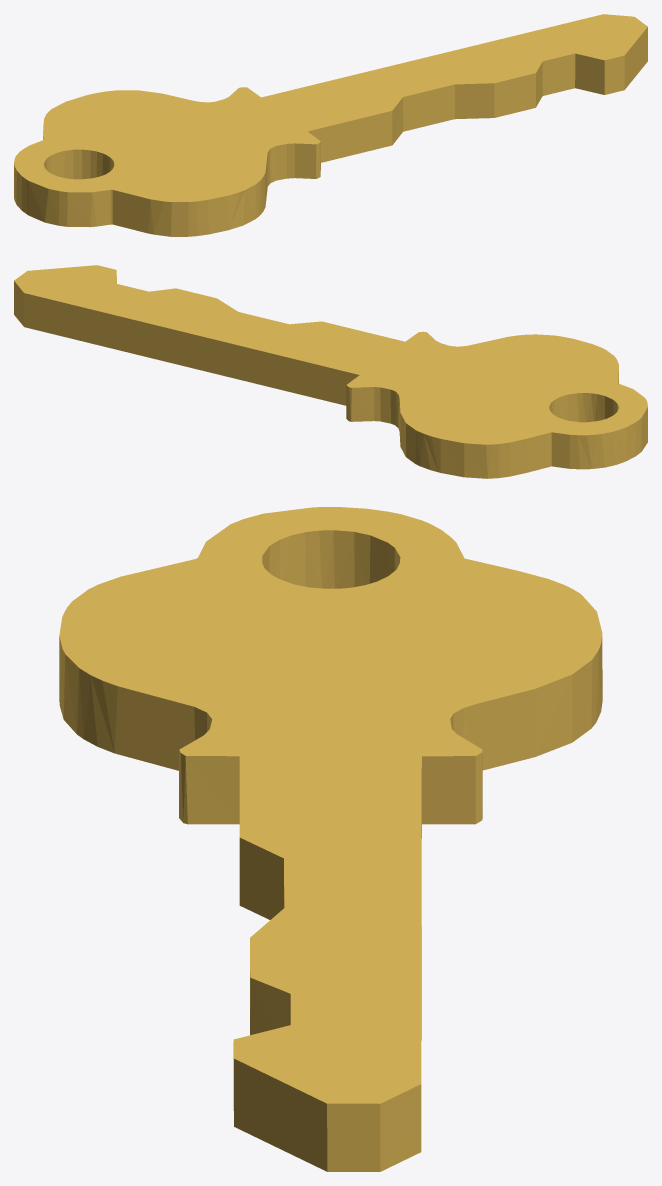
File: key.fbx
3 views of the same model, one above another, from view 1: azimuth 30°, elevation 25°; view 2: azimuth 150°, elevation 25°; view 3: azimuth 270°, elevation 25° (orthographic). The views are drawn at different scales.
Visible parts, largest first — view 1: key; view 2: key; view 3: key.
Boxes of the visible parts, box(x1,y1,x2,y2) form: key: box(14, 14, 647, 236); key: box(14, 265, 647, 478); key: box(59, 507, 602, 1171).
Bounding box in the file's own units: 56.31 × 3 × 21.66.
